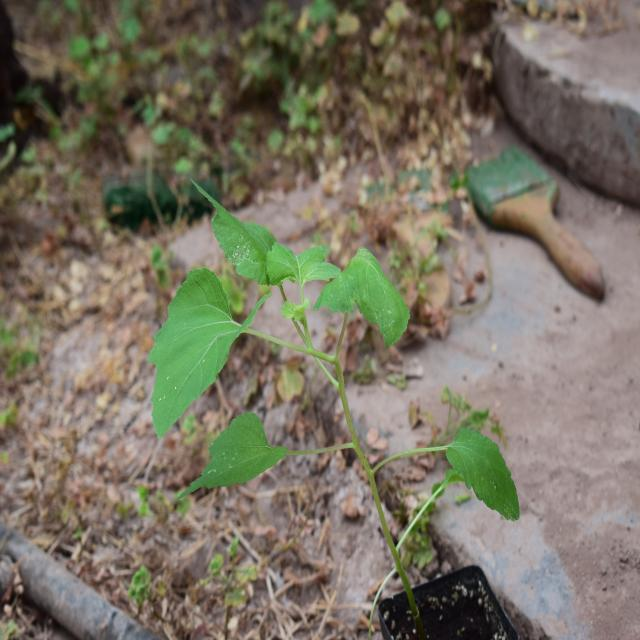cocklebur: (135, 212, 490, 520)
